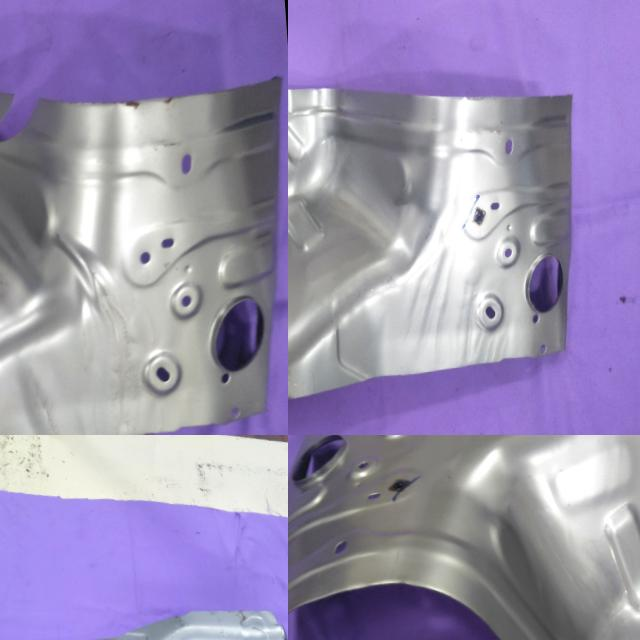Defect: (0, 83, 56, 164)
Healthy: (288, 61, 593, 426), (288, 435, 640, 640)
rust: (76, 82, 206, 138), (210, 595, 260, 639)
